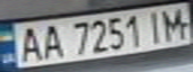1: (121, 11, 145, 47)
2: (87, 16, 112, 54)
5: (106, 15, 127, 52)
7: (66, 18, 90, 56)
A: (12, 24, 45, 62), (36, 21, 66, 60)
I: (142, 8, 169, 43)
M: (157, 4, 190, 40)
